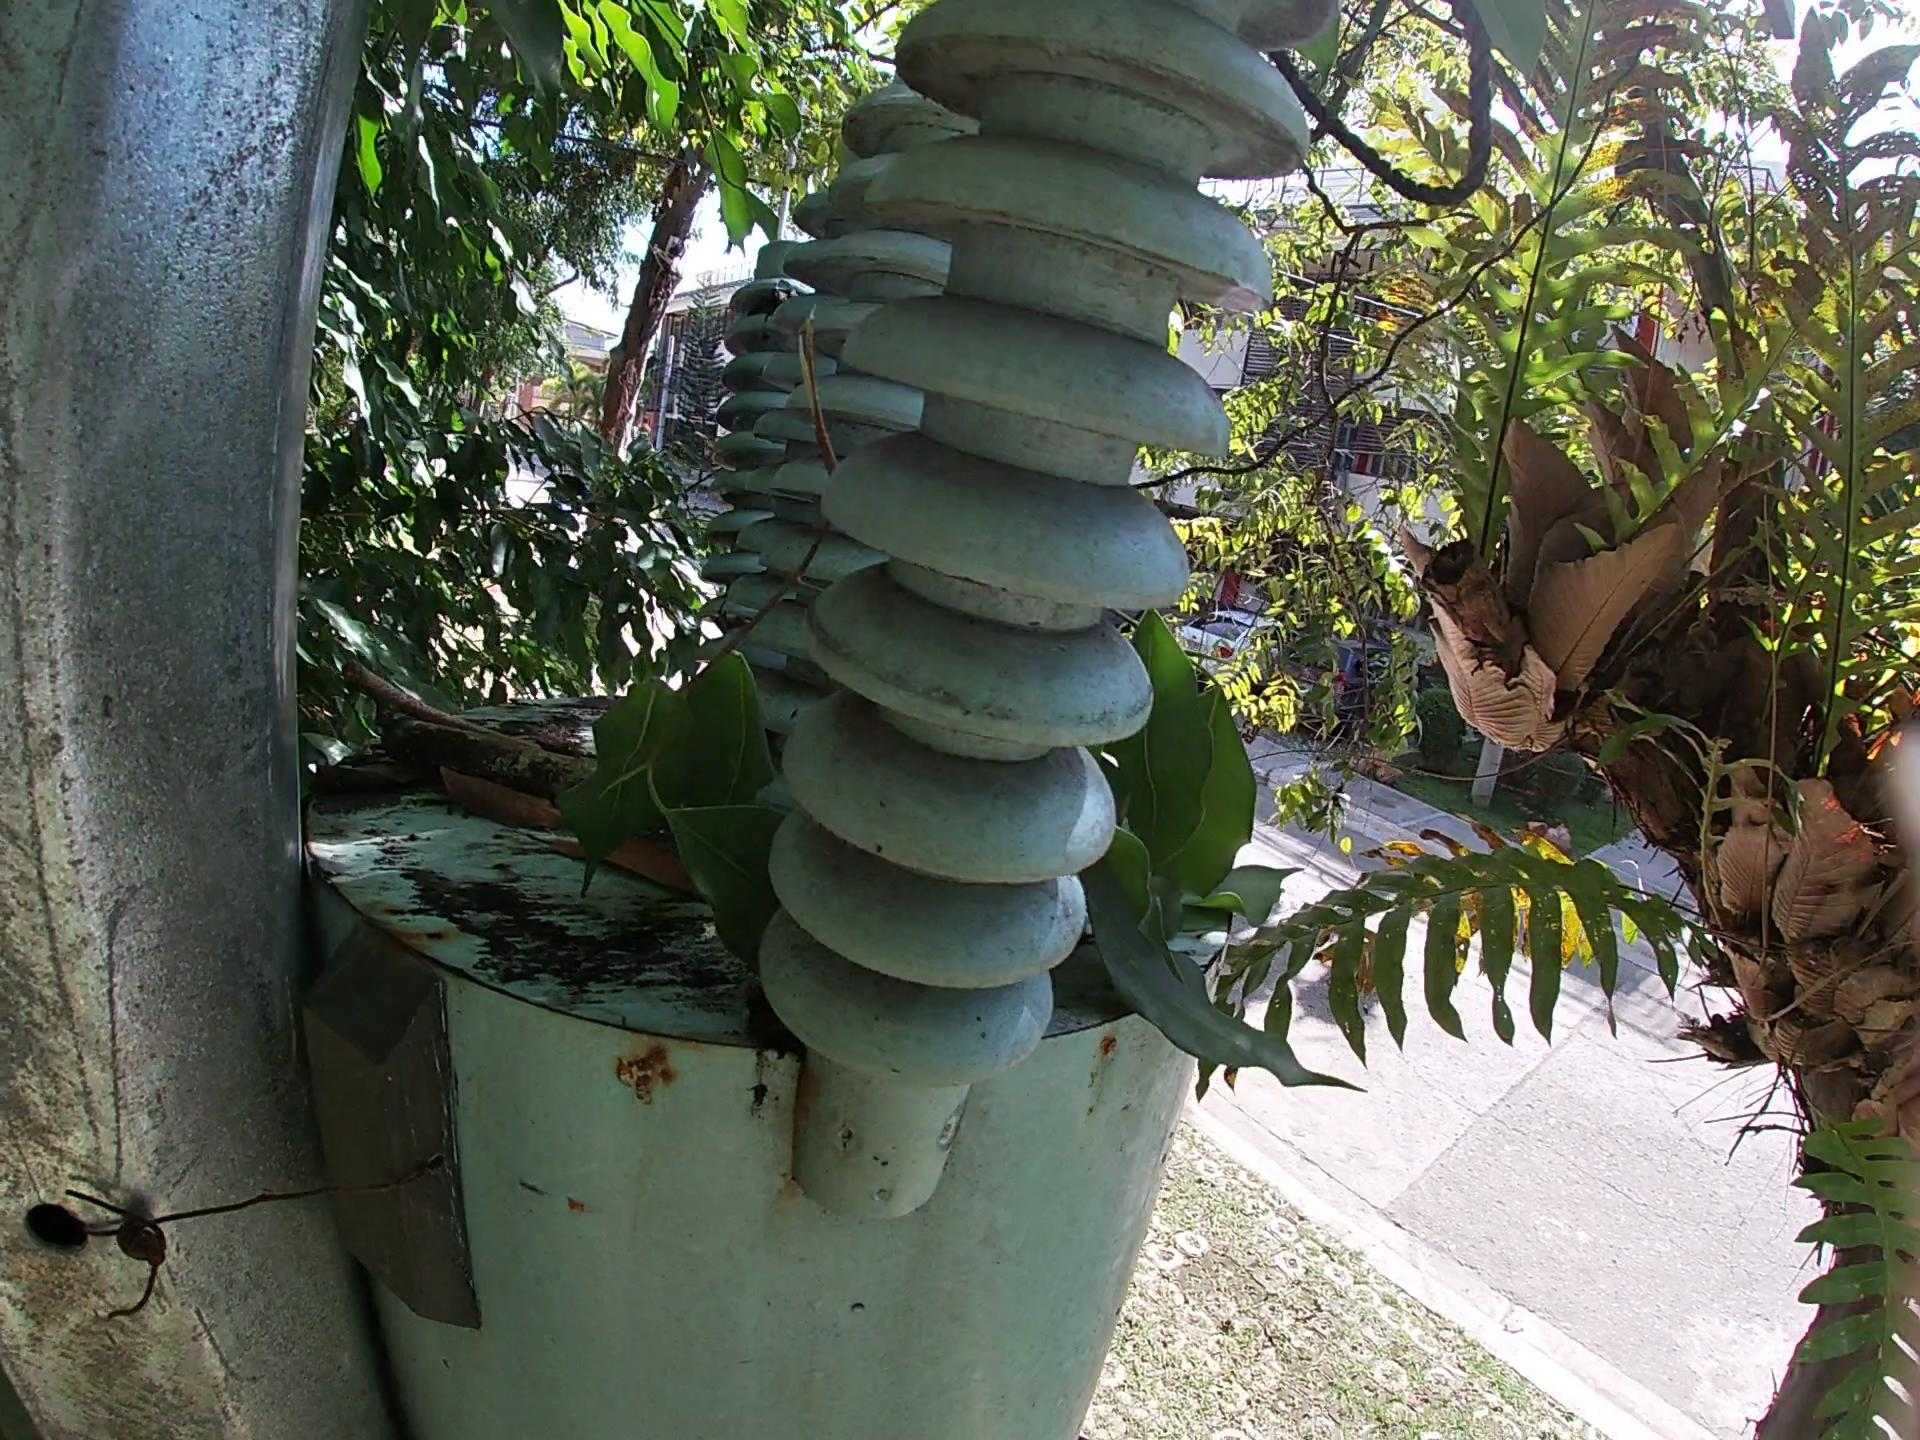branch with leaves: (605, 290, 1398, 1131)
leaf: (553, 824, 698, 882), (429, 761, 540, 829), (314, 753, 398, 796)
tree branch: (386, 714, 609, 790), (351, 664, 509, 729)
